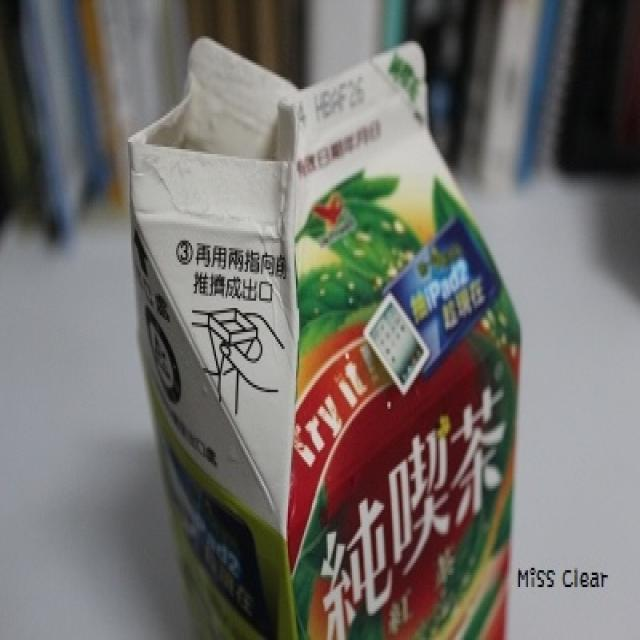cardboard: (130, 34, 516, 636)
